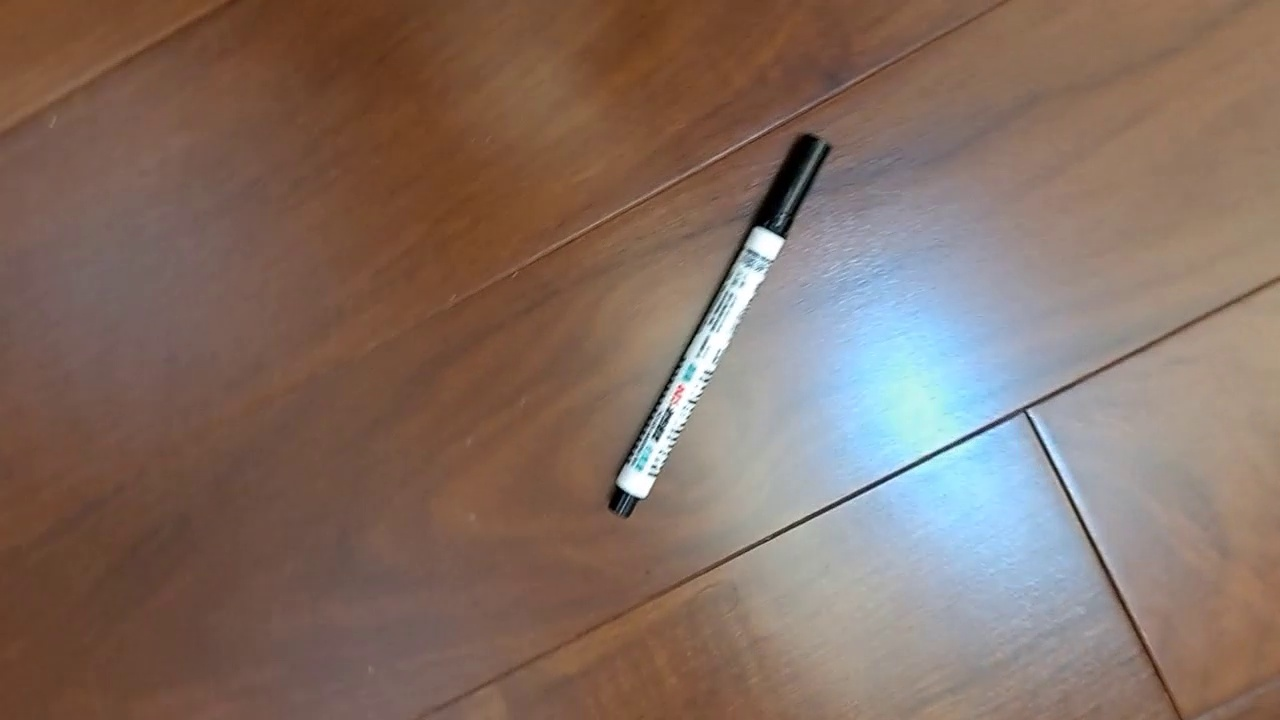pen: (606, 130, 836, 521)
